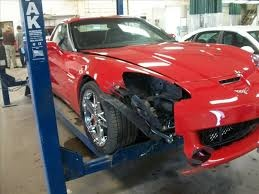Broken-glass: (120, 71, 194, 106)
Dent: (108, 88, 191, 147)
